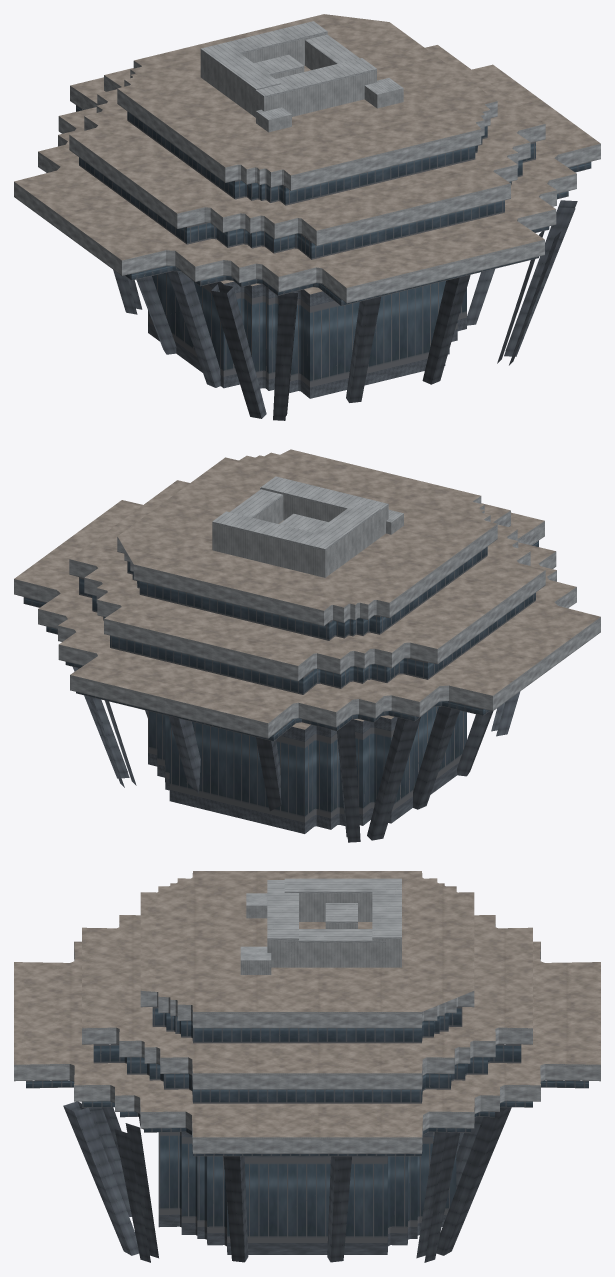
3 renders of one model, top to bottom at view 1: azimuth 30°, elevation 25°; view 2: azimuth 150°, elevation 25°; view 3: azimuth 270°, elevation 25°, orthographic. The views are drawn at different scales.
Parts seen in each view (by area): view 1: geisel_library; view 2: geisel_library; view 3: geisel_library.
Boxes of the visible parts, x1=… form: geisel_library: x1=14, y1=14, x2=600, y2=420; geisel_library: x1=14, y1=449, x2=600, y2=842; geisel_library: x1=14, y1=871, x2=600, y2=1262.
Size of the model in its own units: 61.48 by 32.5 by 61.48.
5 materials, 5 textured.
